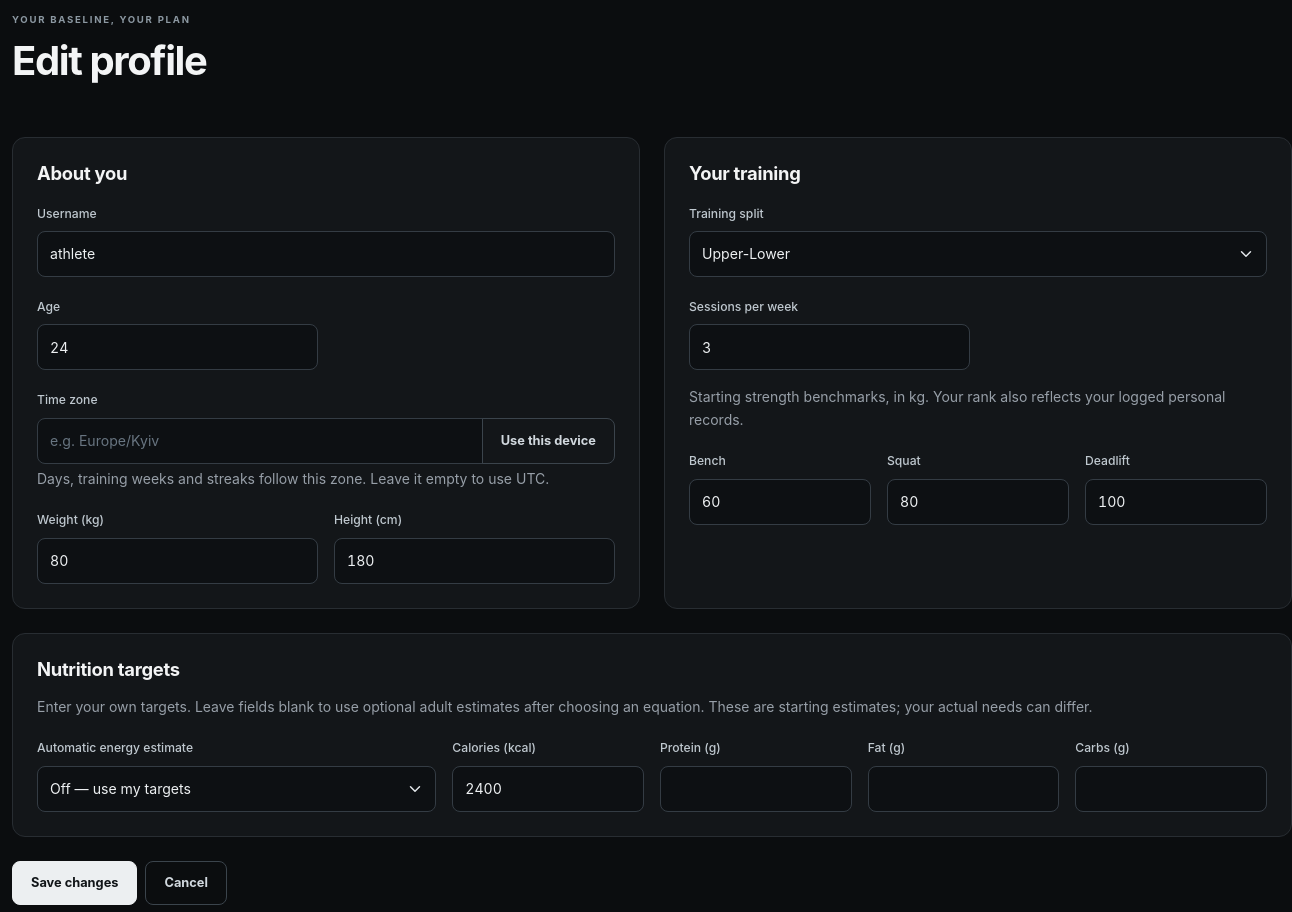
Test: profile settings › fills the time zone from the device and shows server errors
Click the button "Use this device". click: (548, 441)
box: [482, 418, 615, 464]
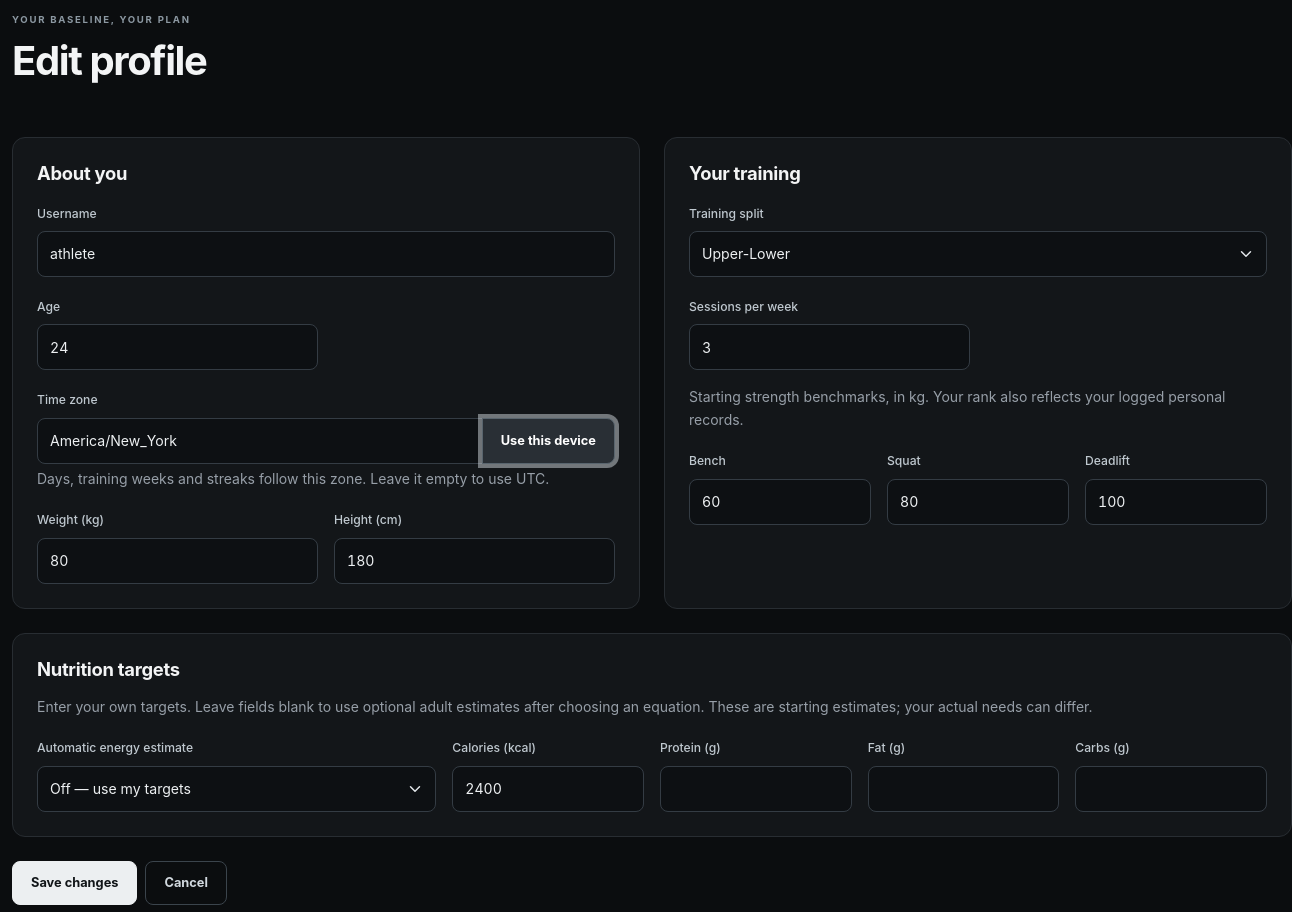
Check: the field labelled "Time zone" holds "America/New_York", box [37, 418, 483, 464]
Click the button "Save changes". click: (75, 883)
box: [12, 861, 138, 905]
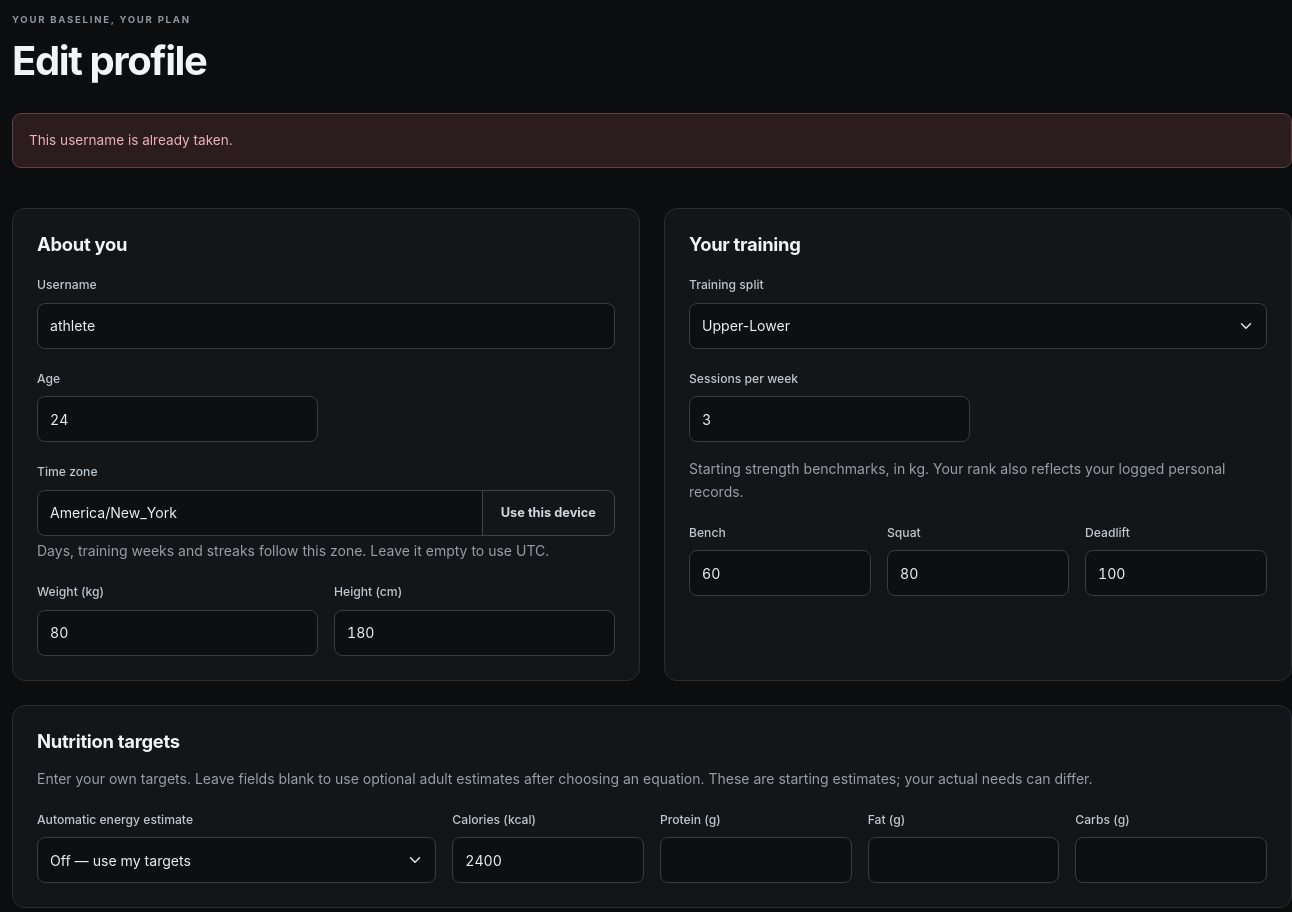
Check: the message reads "This username is already taken.", box [29, 132, 233, 148]
